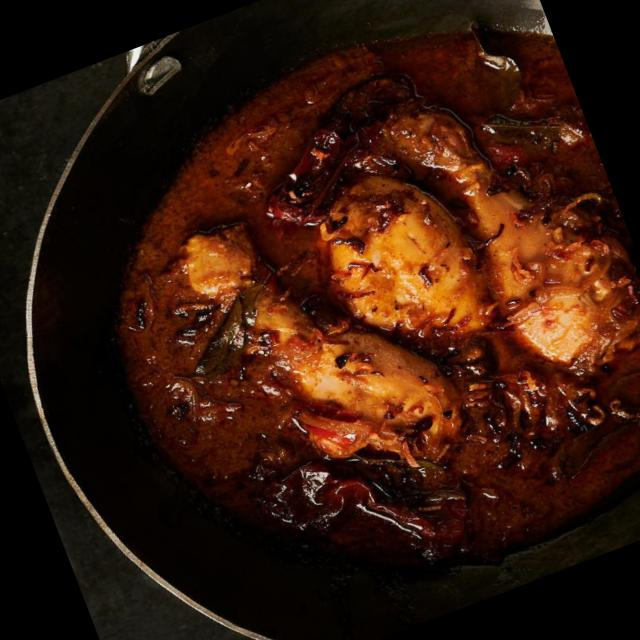chicken: (115, 35, 640, 620)
